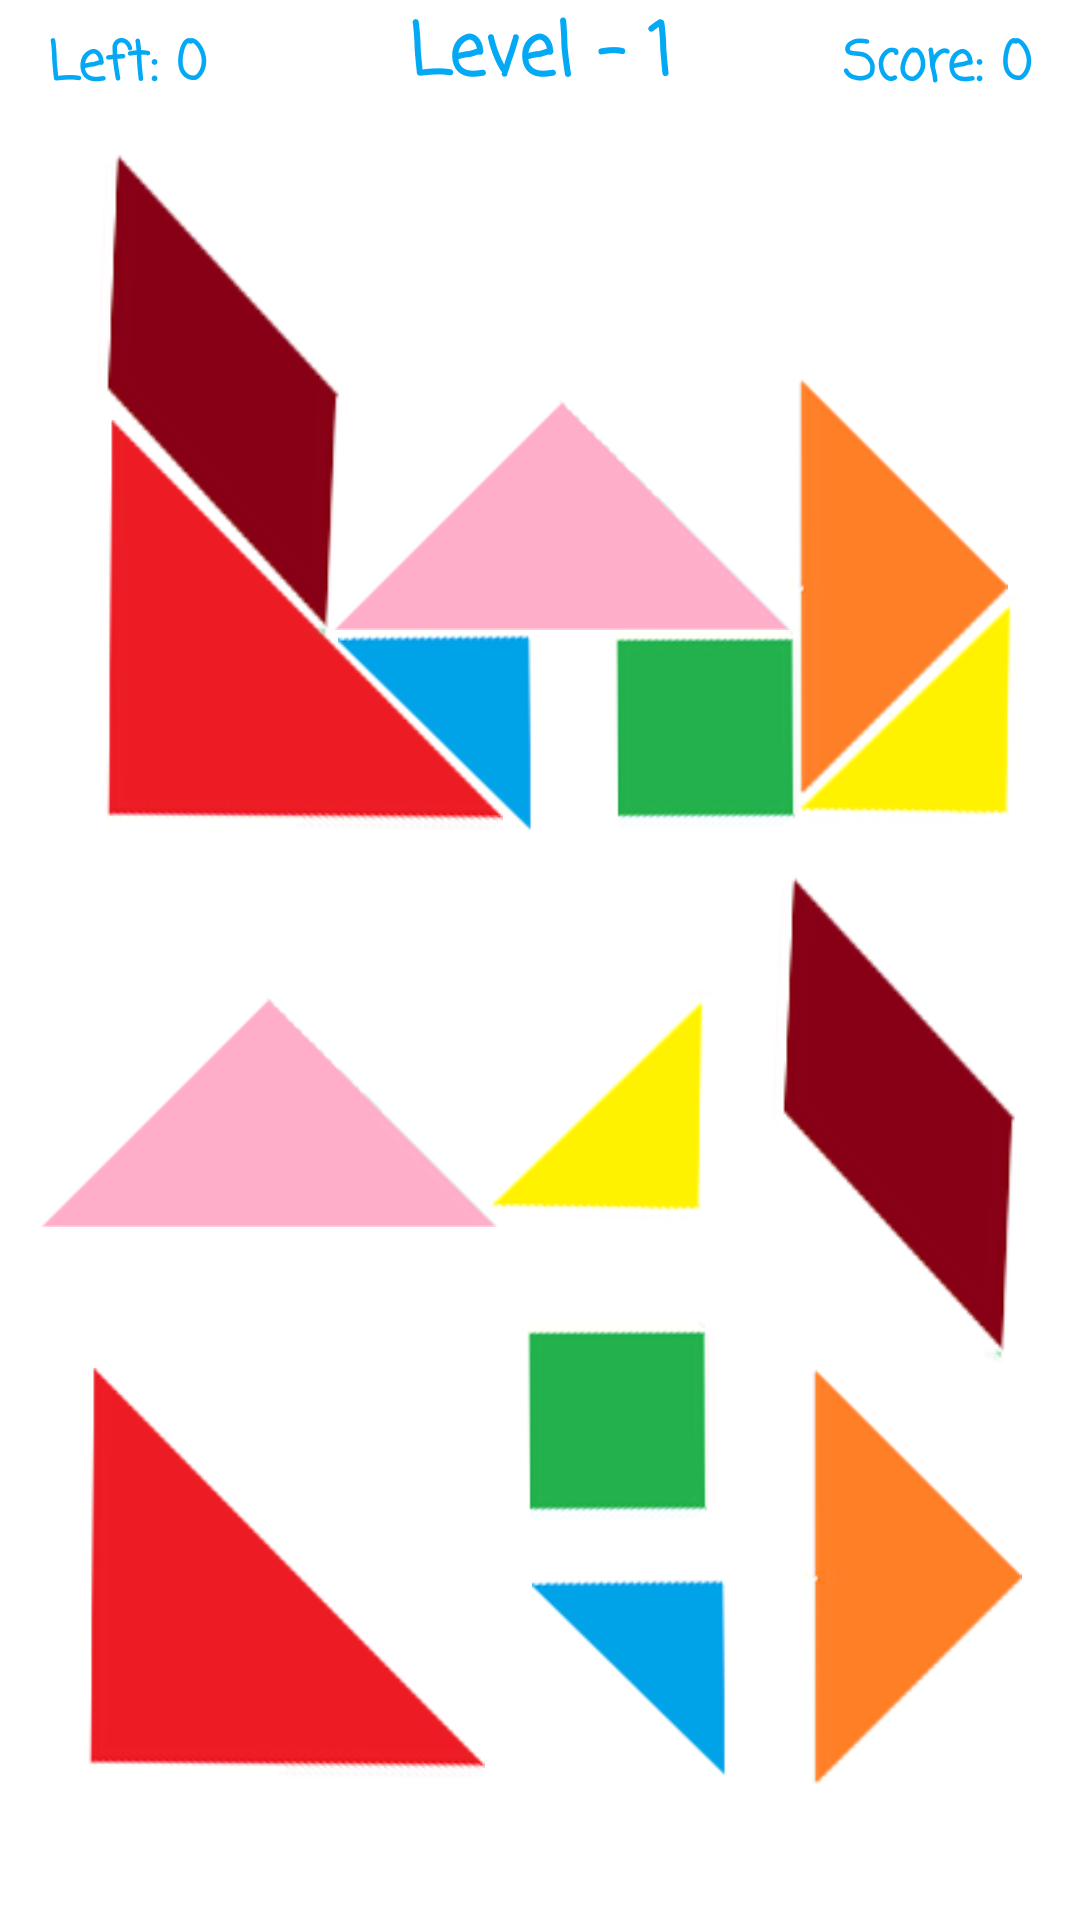

Screen size 1080 x 1920. Icon name, then its center in pixels as point (x, y):
level kare: point (705, 727), point (617, 1420)
